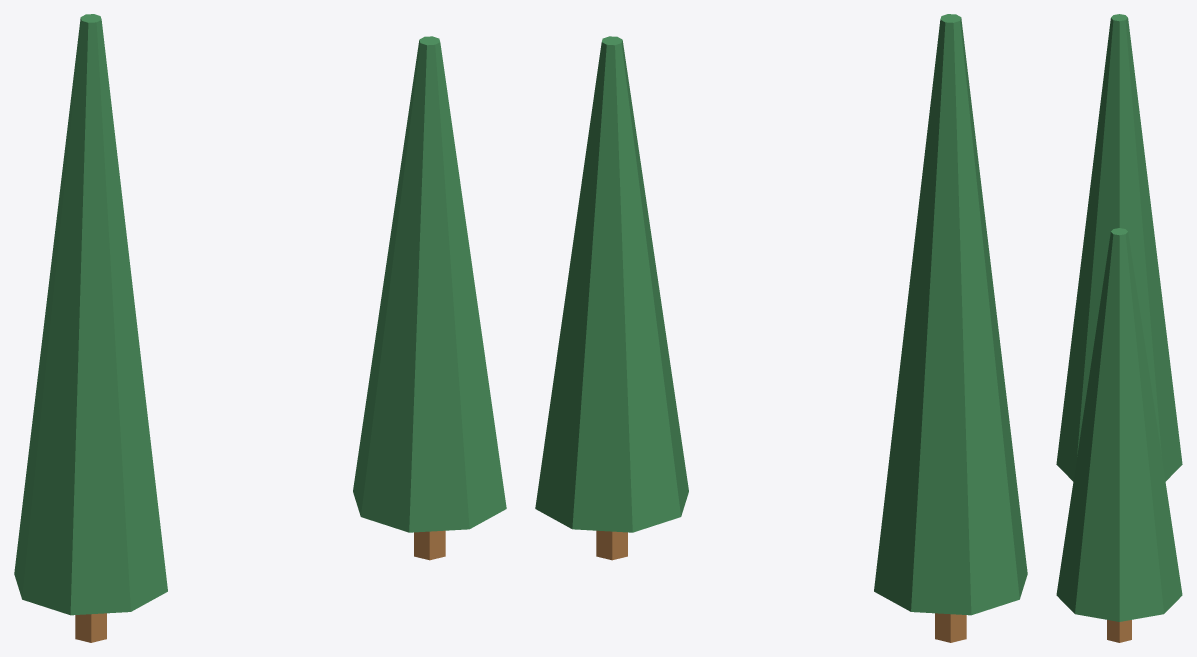
The model's file is cypresses.glb.
The picture shows the model from 3 angles, left to right: view 1: azimuth 30°, elevation 25°; view 2: azimuth 150°, elevation 25°; view 3: azimuth 270°, elevation 25°; orthographic projection. The views are drawn at different scales.
Parts seen in each view (by area): view 1: cypresses; view 2: cypresses; view 3: cypresses.
Boxes of the visible parts, x1,y1,x2,y2 form: cypresses: (14,14,506,642); cypresses: (535,14,1027,642); cypresses: (1056,14,1182,642).
Size of the model in its own units: 0.76 by 0.94 by 0.22.
1 material, 1 textured.
